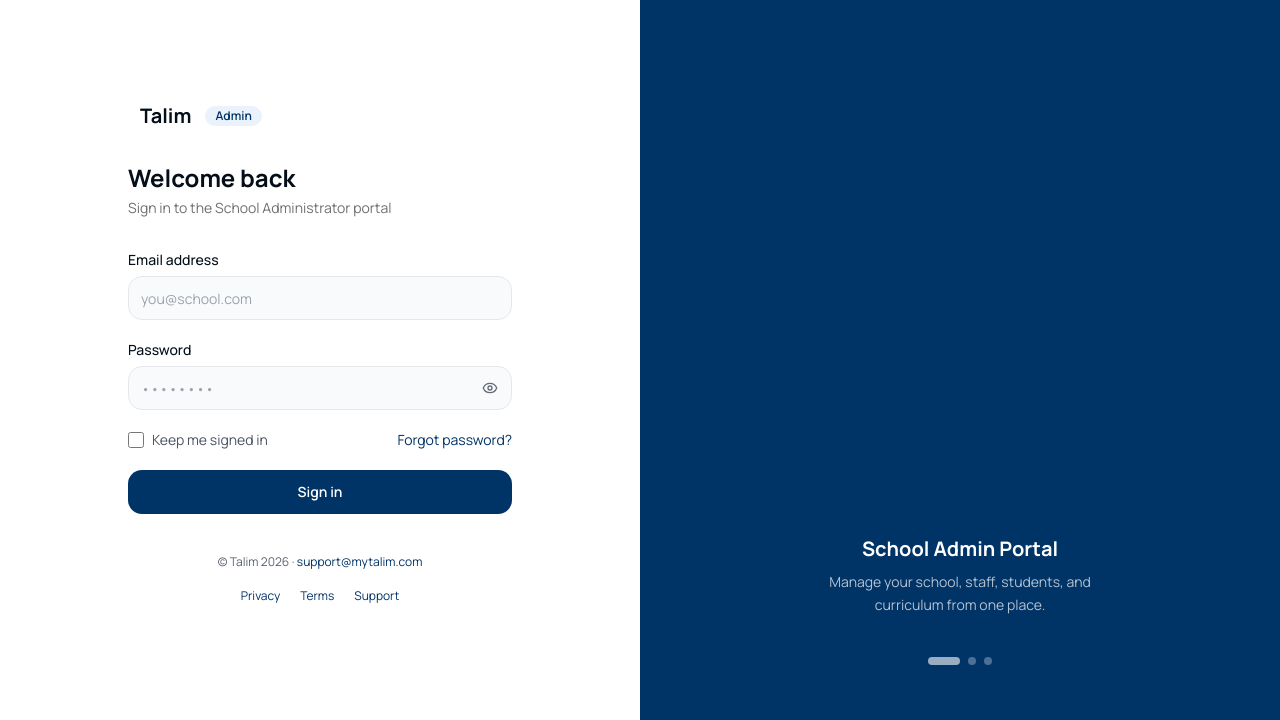
Scenario: sign-in › explains a refusal: Access denied: you are registered as a teacher.
The width and height of the screenshot is (1280, 720).
Type "x@school.test" into the field labelled "Email address" at (320, 298), box left=128, top=276, right=512, bottom=320
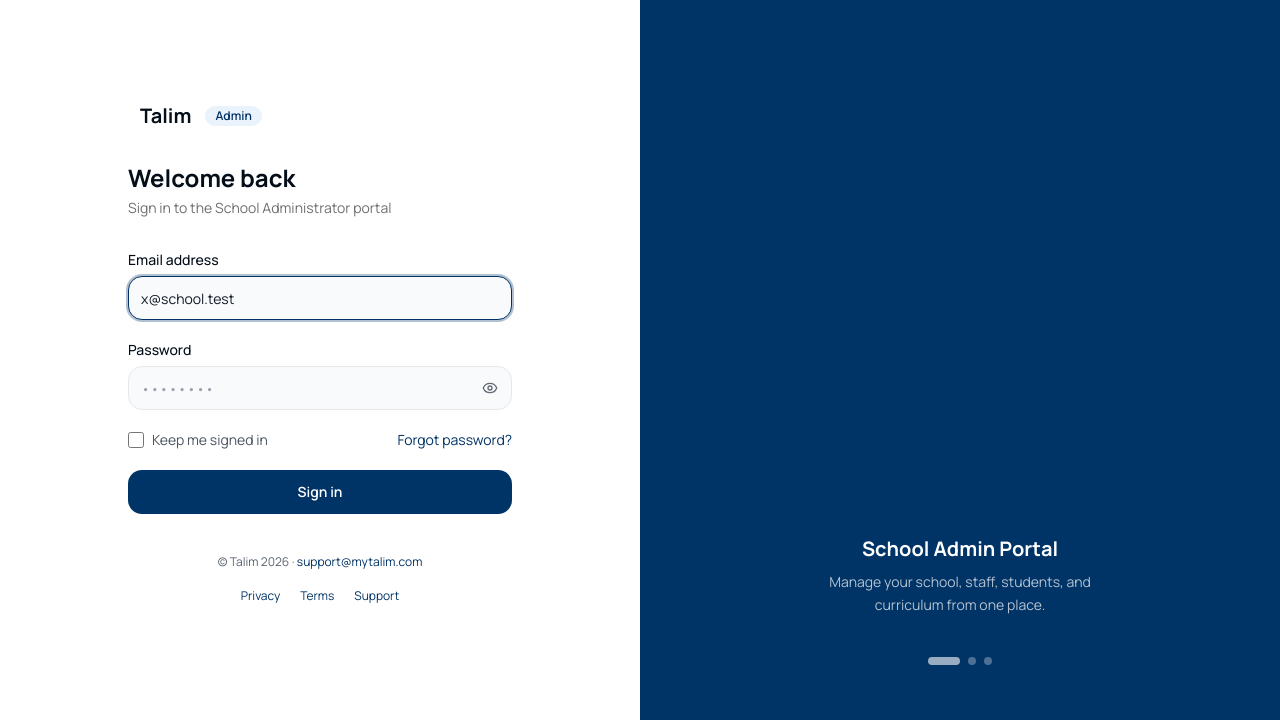
Type "nope" into the password field labelled "Password" at (320, 388), box left=128, top=366, right=512, bottom=410
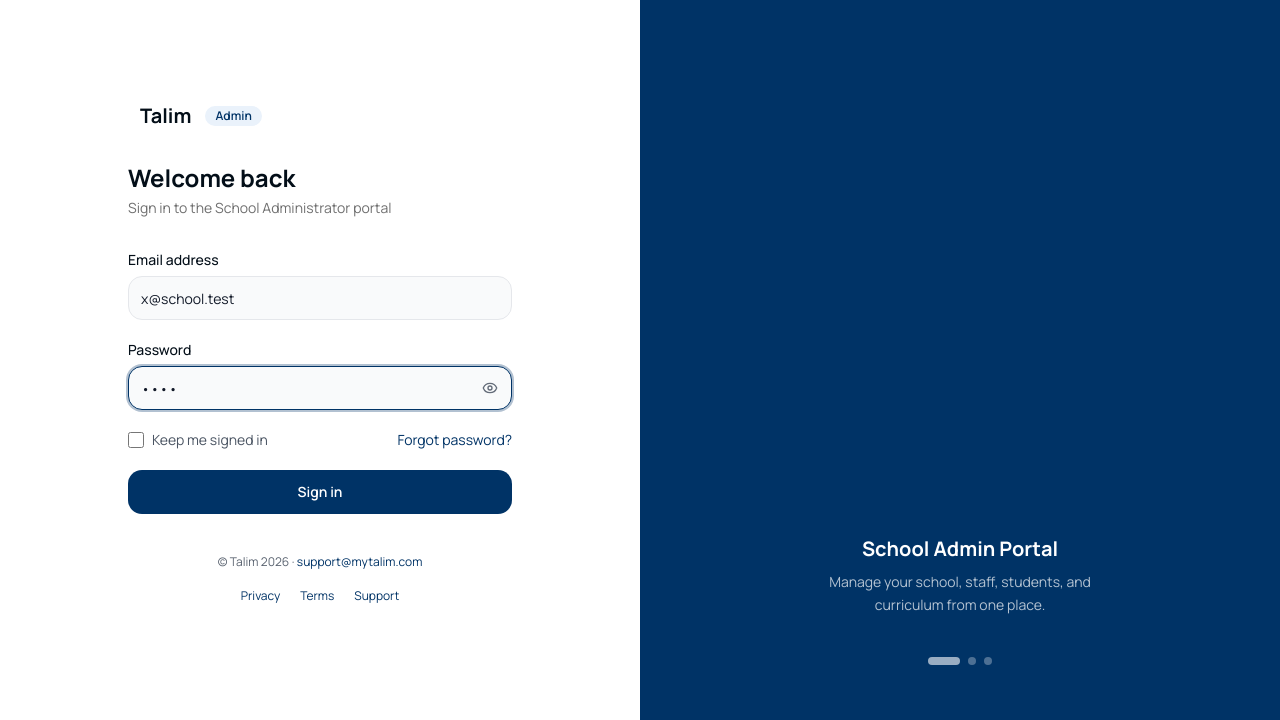
Click the button "Sign in" at (320, 492), box left=128, top=470, right=512, bottom=514
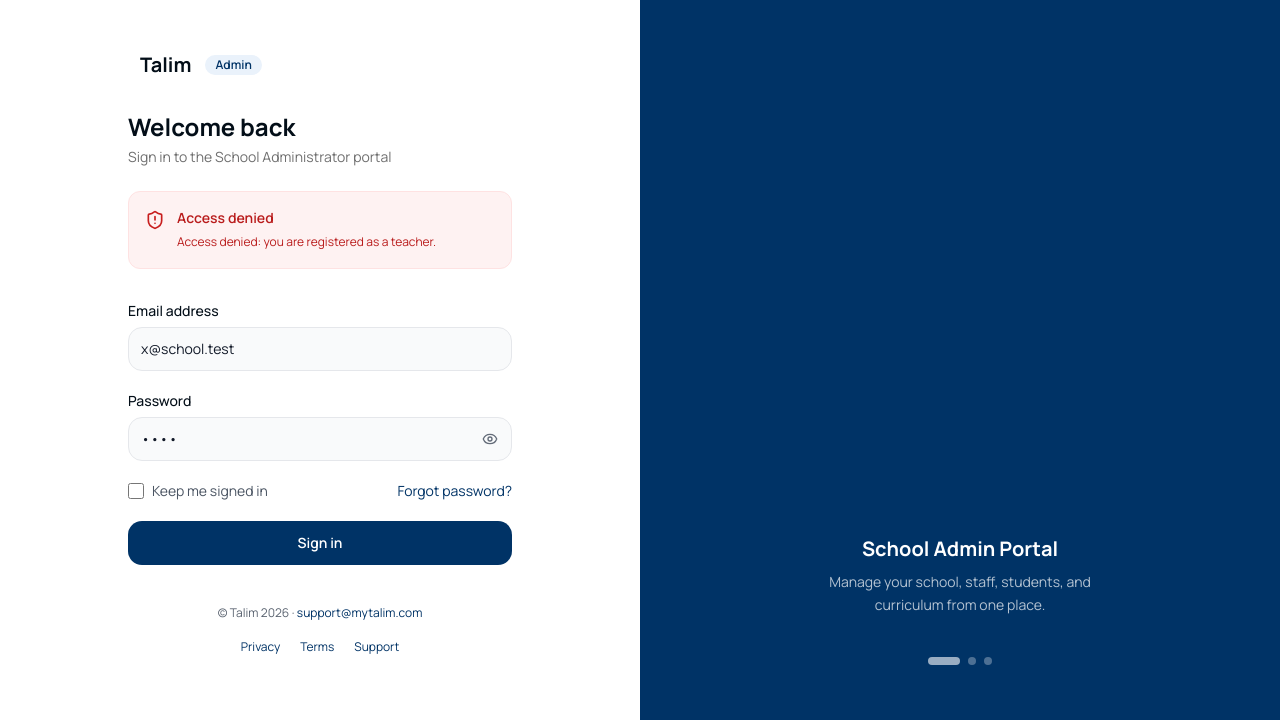
Expected: the message shows "Access denied", left=177, top=208, right=274, bottom=227
